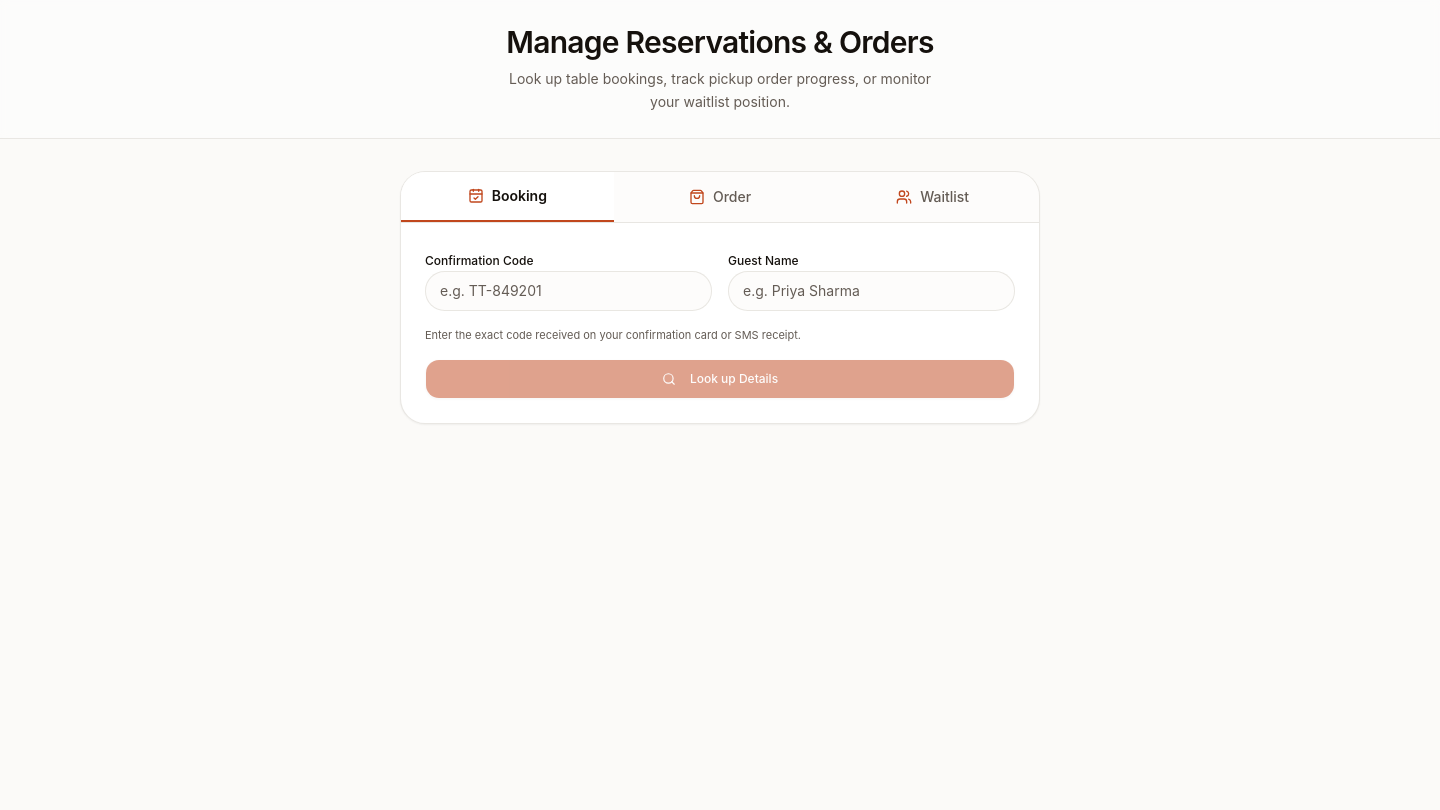
Manage Page (/manage) › looks up dining reservation and displays summary with cancellation action
In the field with placeholder "e.g. TT-849201": (568, 290) left=425, top=270, right=712, bottom=310, type "TT-849201"
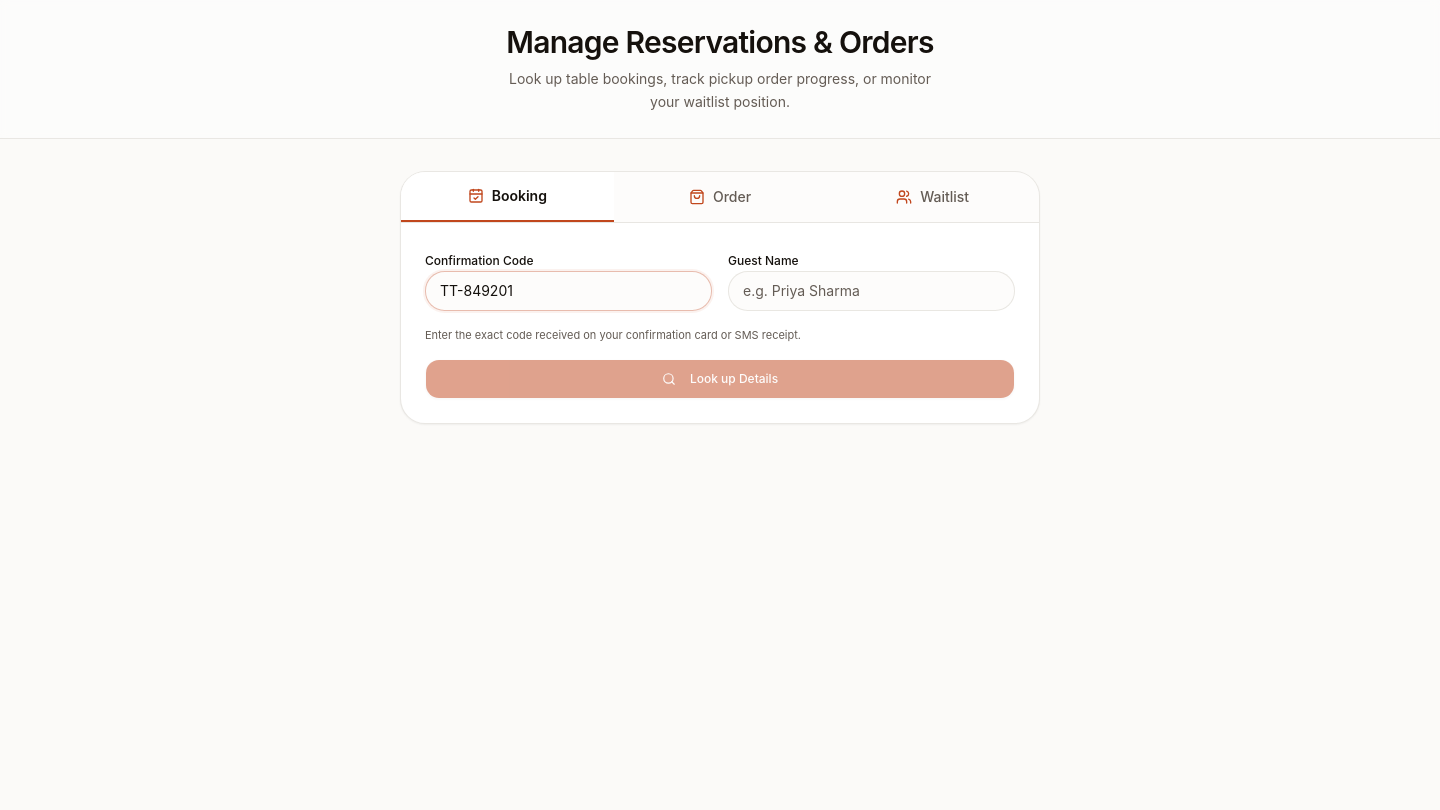
In the field with placeholder "e.g. Priya Sharma": (872, 290) left=728, top=270, right=1015, bottom=310, type "Priya Sharma"
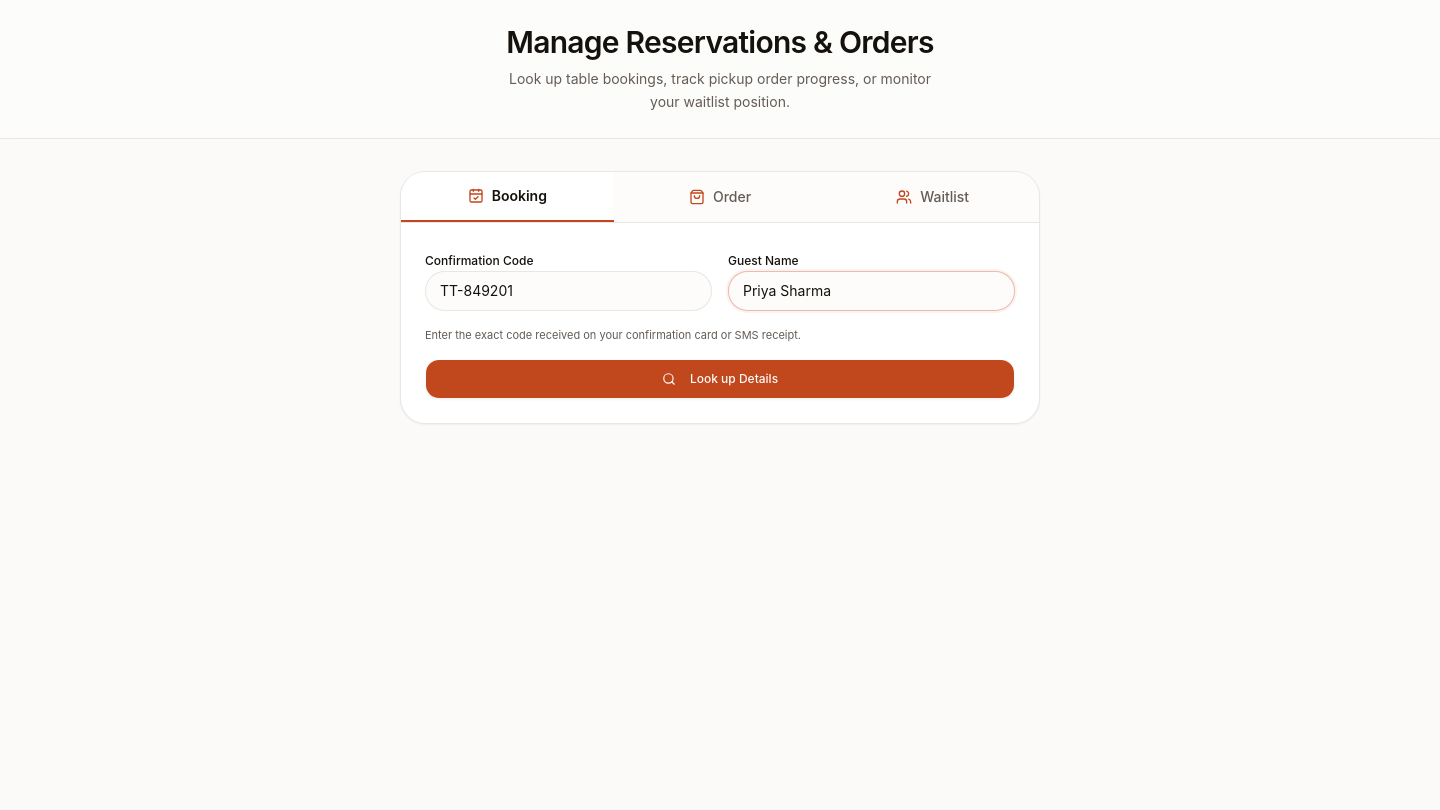
Click the button "Look up Details": (720, 379) left=425, top=359, right=1015, bottom=399
(page scrolled)
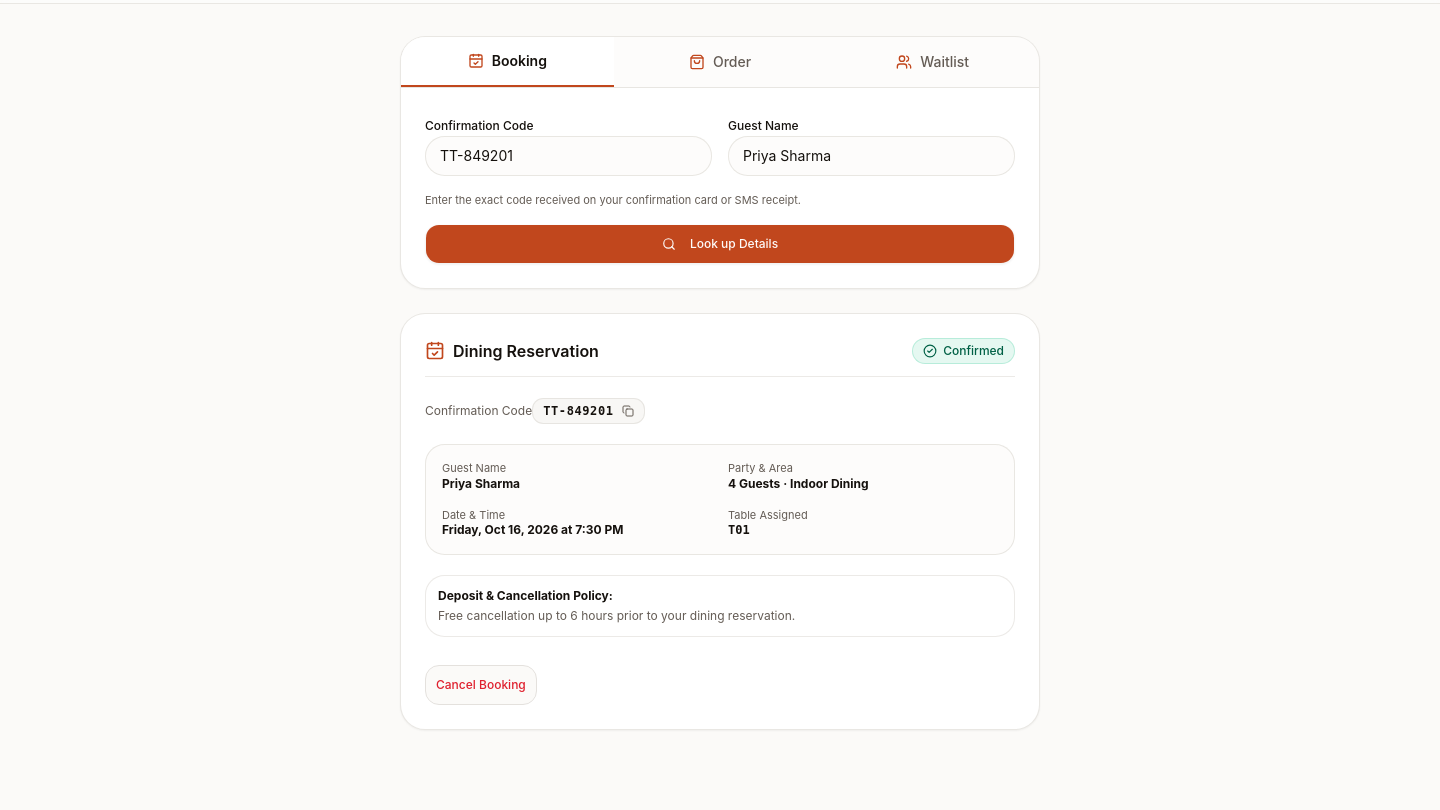
Check: the heading "Dining Reservation" is shown, box left=453, top=339, right=599, bottom=363
Check: the text "T01" is shown, box left=728, top=523, right=750, bottom=537
Check: the button "Cancel Booking" is shown
// Test cancellation confirmation dialog
Click the button "Cancel Booking": (481, 685) left=425, top=665, right=537, bottom=705
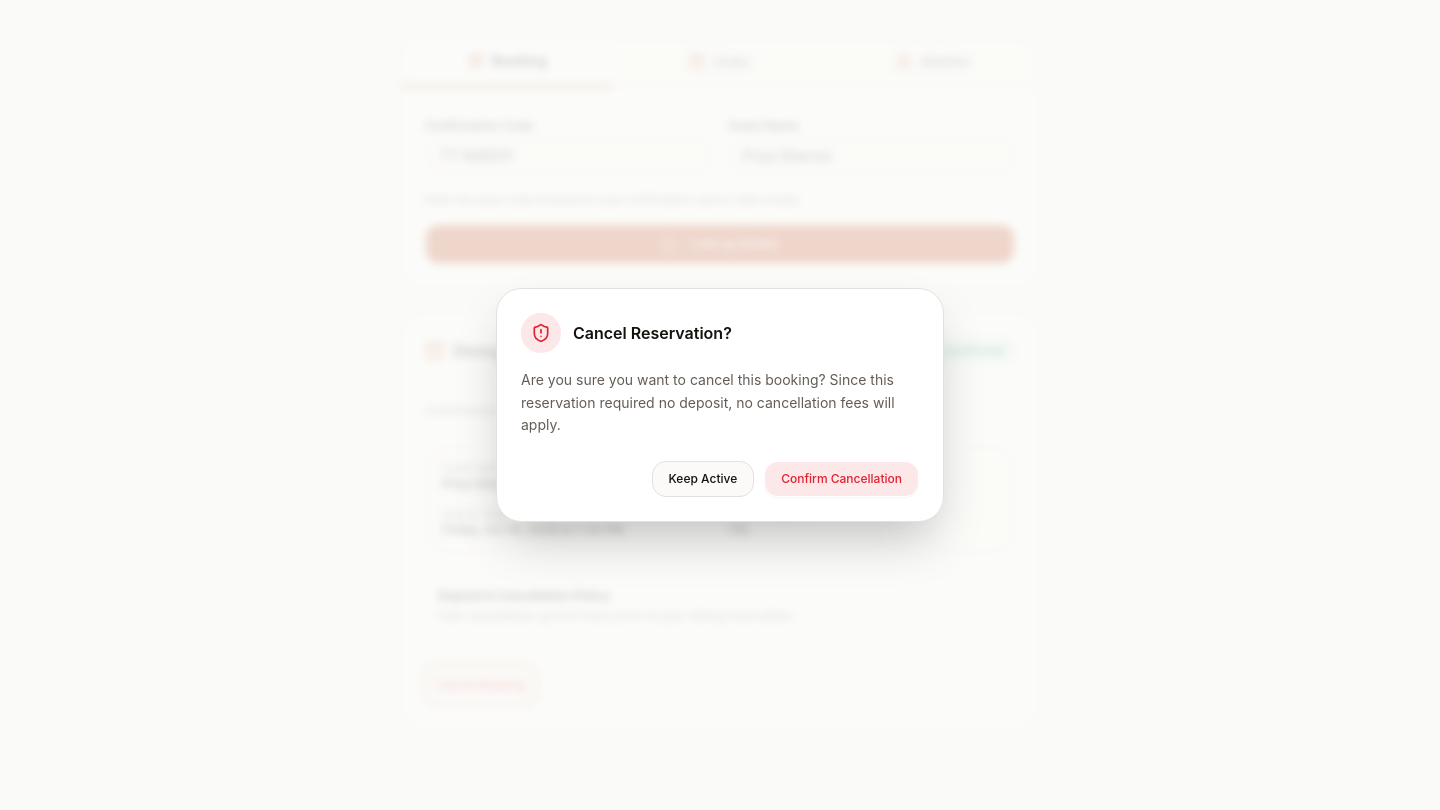
Check: the heading "Cancel Reservation?" is shown, box left=573, top=321, right=732, bottom=345
Click the button "Confirm Cancellation": (842, 479) left=764, top=461, right=919, bottom=497
(page scrolled)
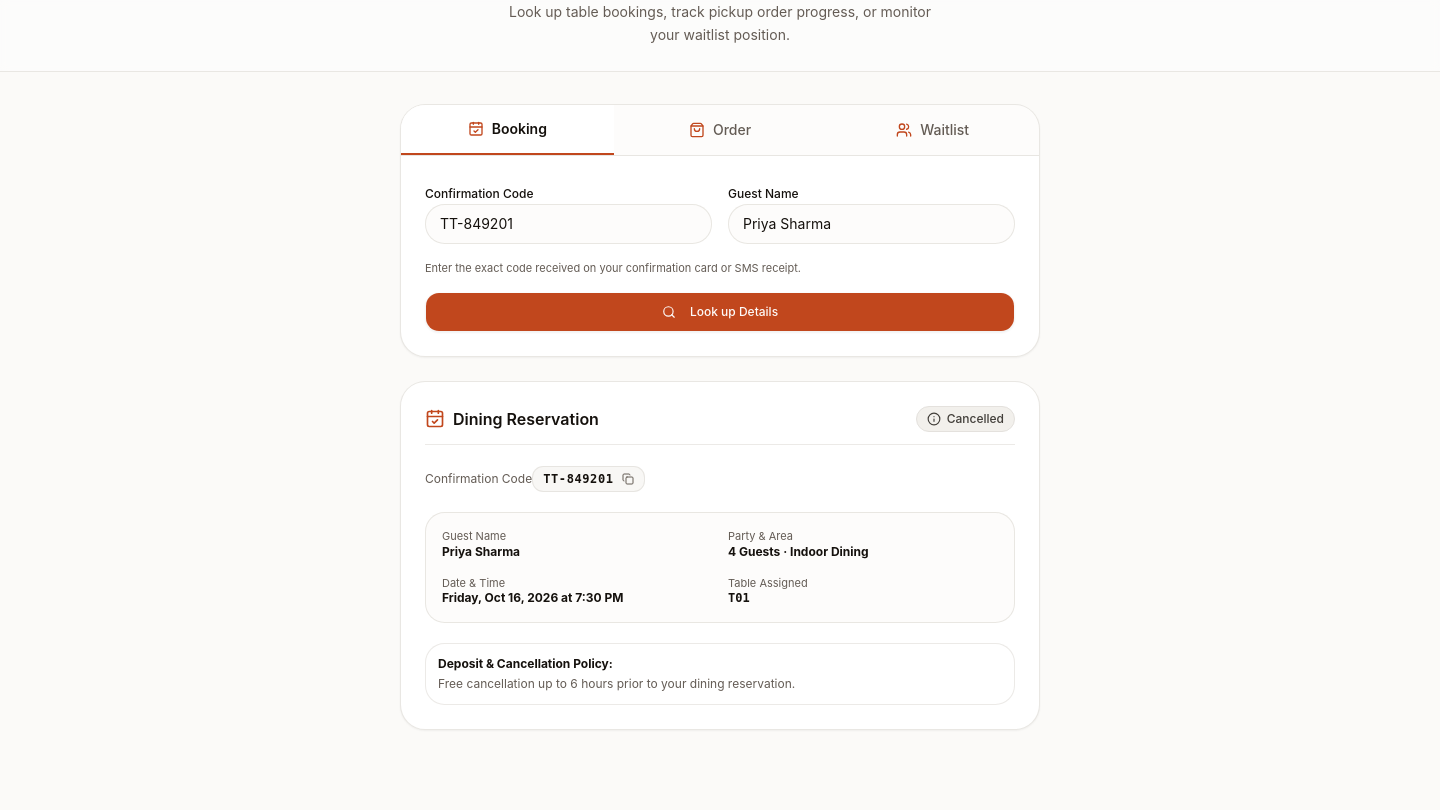
Check: the text "Cancelled" is shown, box left=947, top=411, right=1004, bottom=427
